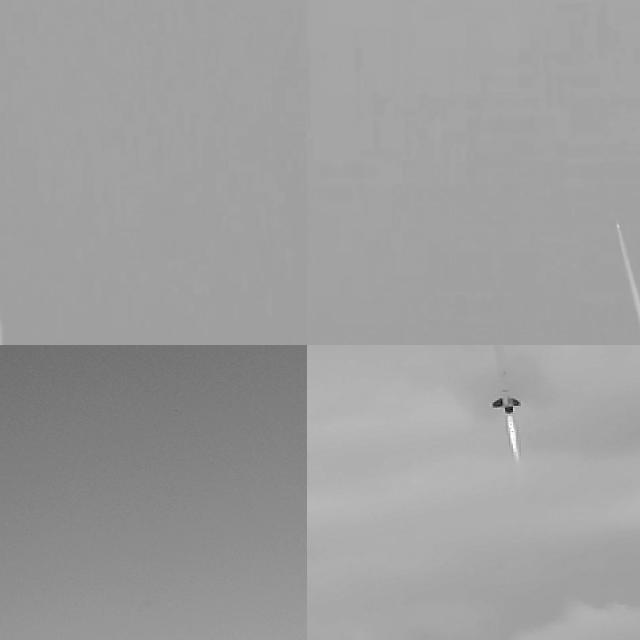Rocket: (479, 345, 521, 414), (616, 219, 619, 228)
